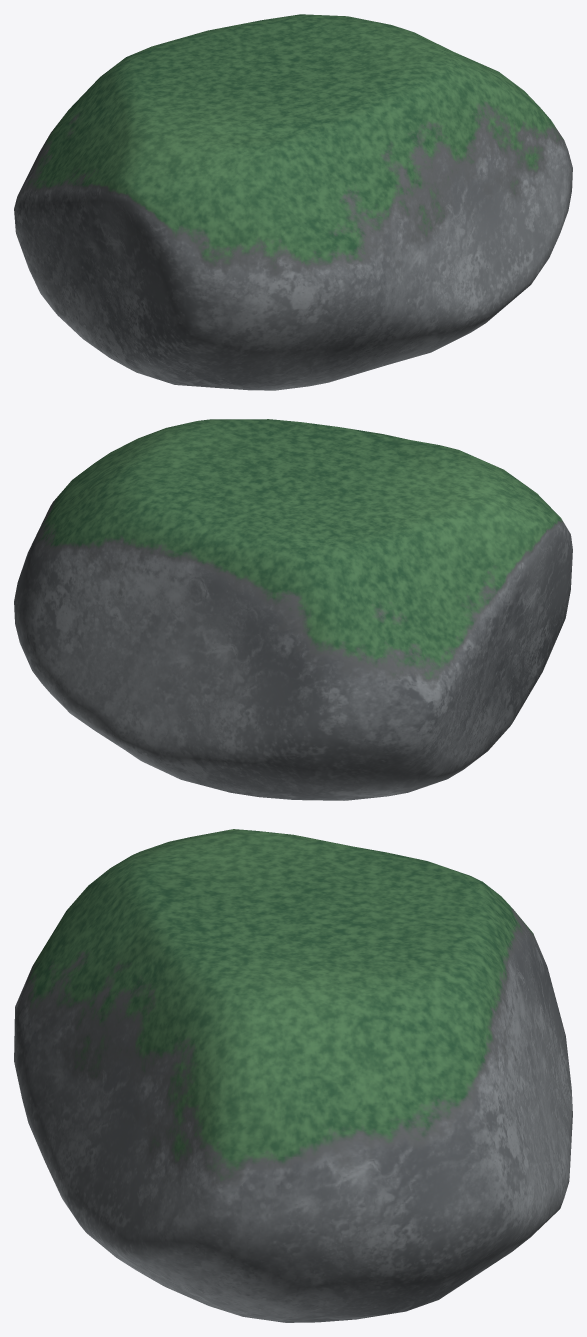
The model's file is creature_boulder_b.glb.
3 renders of one model, top to bottom at view 1: azimuth 30°, elevation 25°; view 2: azimuth 150°, elevation 25°; view 3: azimuth 270°, elevation 25°, orthographic. The views are drawn at different scales.
Parts seen in each view (by area): view 1: BoulderB; view 2: BoulderB; view 3: BoulderB.
Boxes of the visible parts, x1,y1,x2,y2 form: BoulderB: [14, 14, 572, 390]; BoulderB: [14, 419, 572, 800]; BoulderB: [14, 829, 572, 1322].
Bounding box in the file's own units: 1.8 × 1.08 × 1.56.
1 material, 1 textured.
